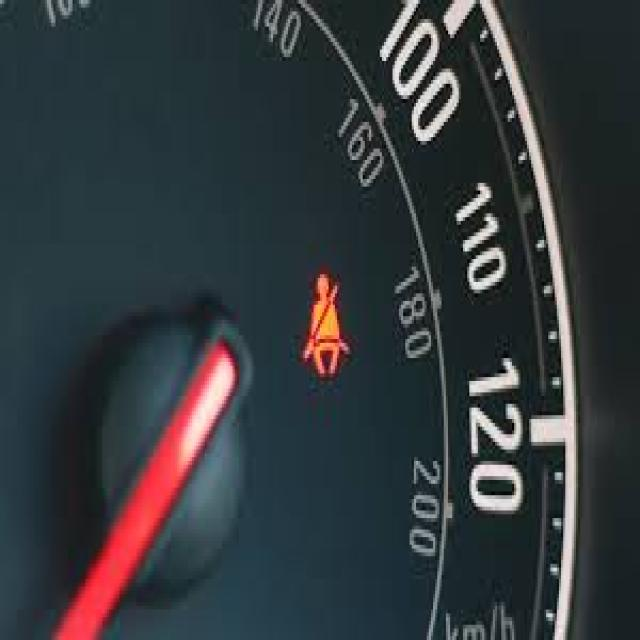SeatBeltWarning: (300, 268, 355, 390)
